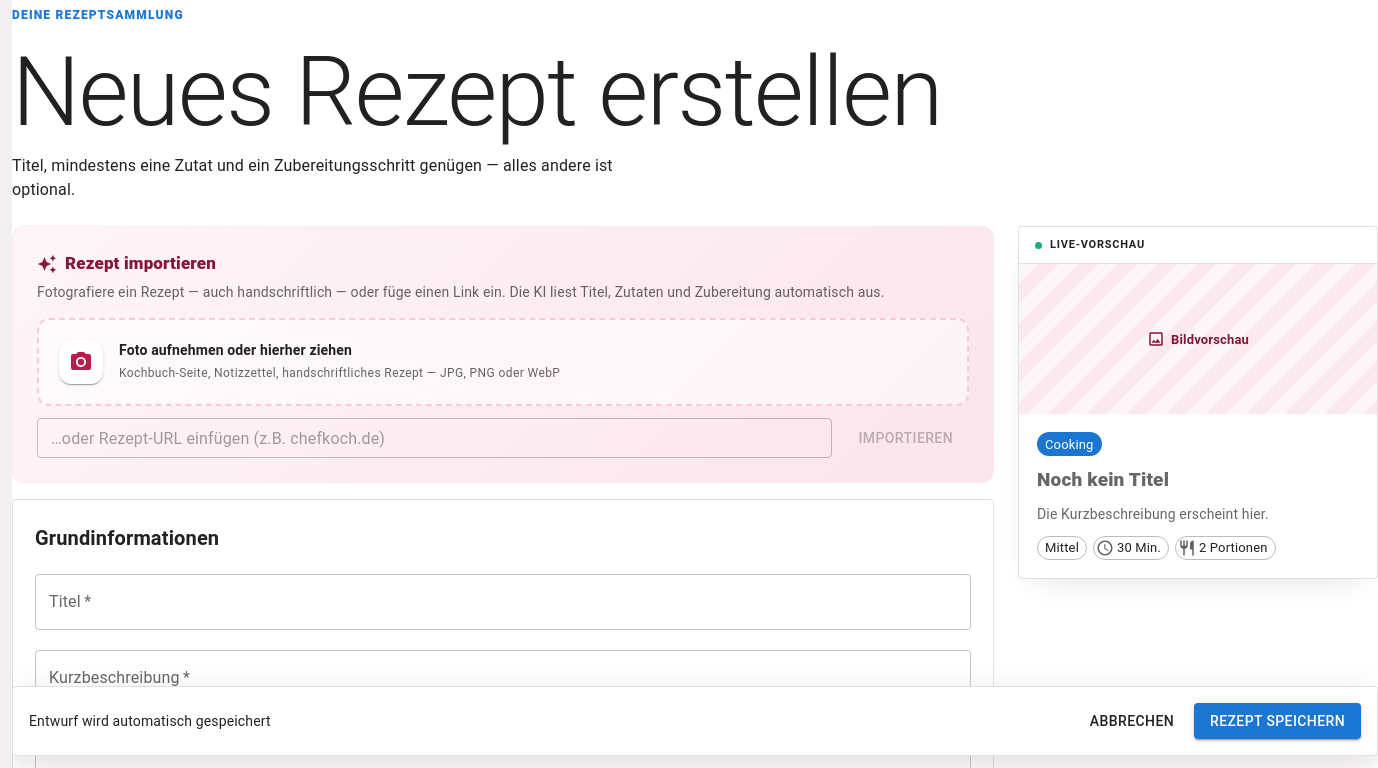
Scenario: CreateRecipePage import › mentions the automatic translation when the server translated the recipe
Type "https://example.com/tomato-soup" into the field labelled "Rezept-URL" at coordinates (435, 438), box [37,418,832,458]
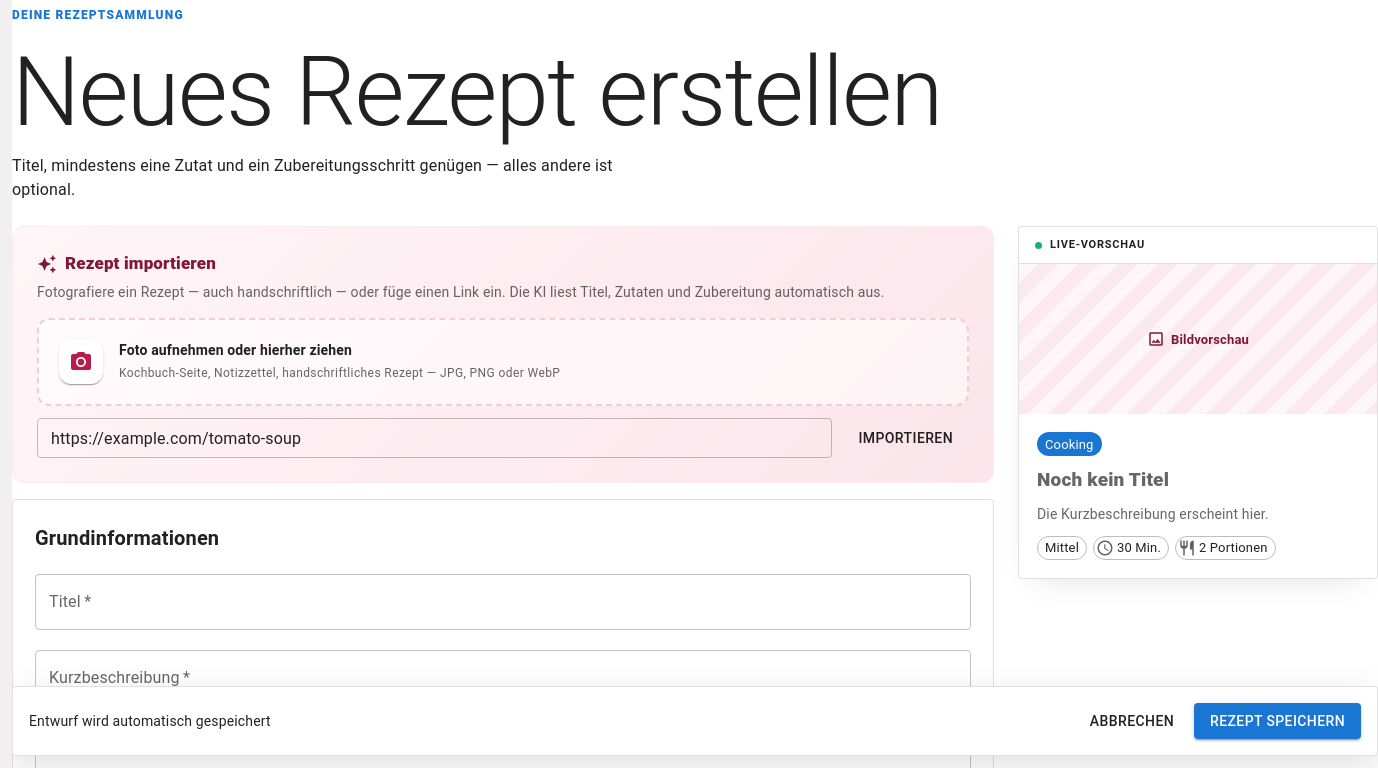
Click the button "Importieren" at coordinates (906, 438), box [842,418,969,458]
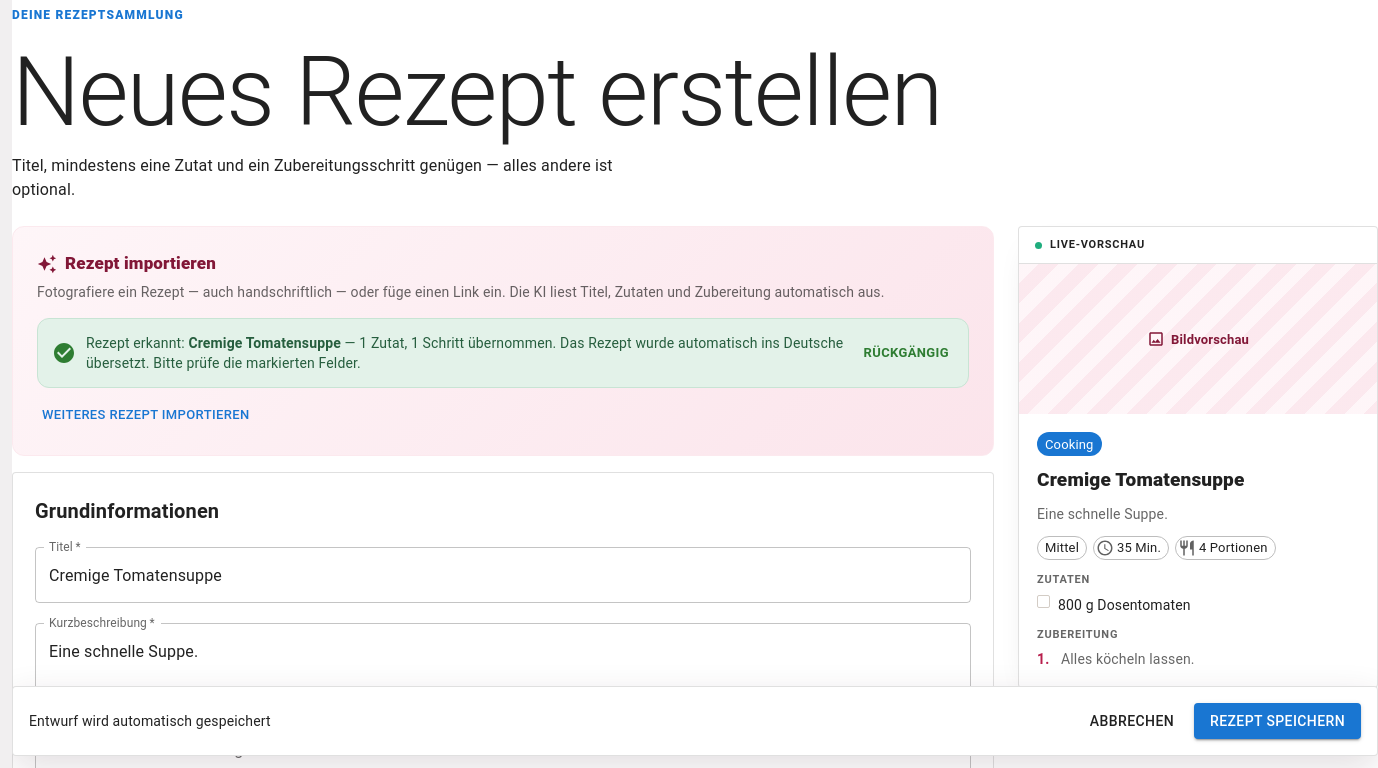
Now the text "ins Deutsche übersetzt" is shown, box [86,336,843,372]
